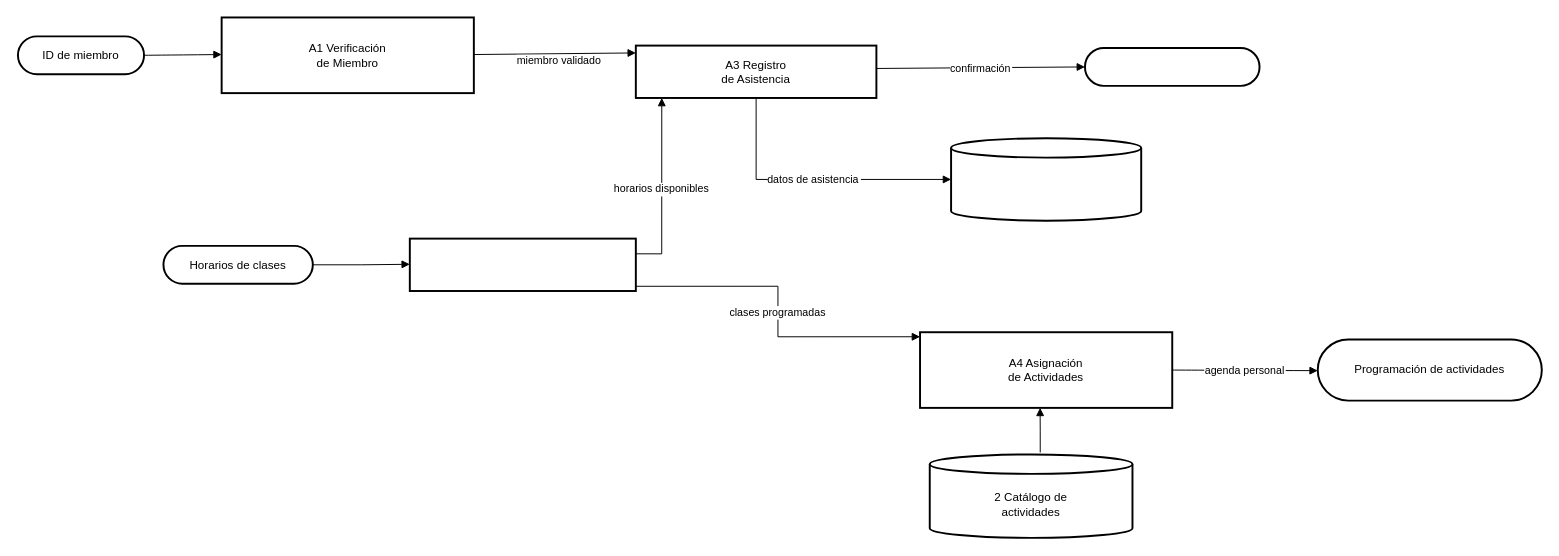
The diagram is 1559 pixels wide and 556 high, and some of its shapes have lost their labels. Here are the shapes that lost their labels. From the top down, the centre of each, then its label:
the point at 1171,66: Registro de asistencia
the point at 1046,179: 1 Historial de asistencia
the point at 522,264: A2 Gestión de Horarios
